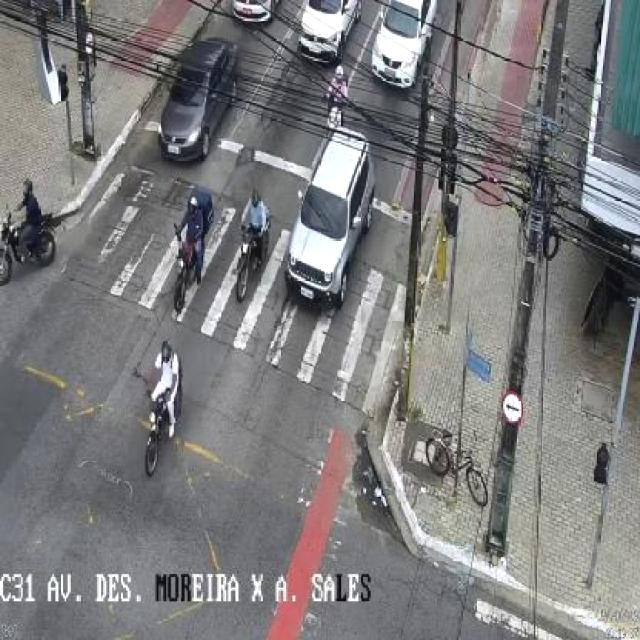Car: (284, 130, 377, 308), (159, 37, 240, 160), (370, 0, 440, 89), (296, 1, 364, 66), (231, 1, 276, 26)
Cycle: (0, 203, 63, 286), (424, 429, 490, 508), (143, 378, 183, 476), (235, 219, 271, 300), (172, 224, 203, 310)
